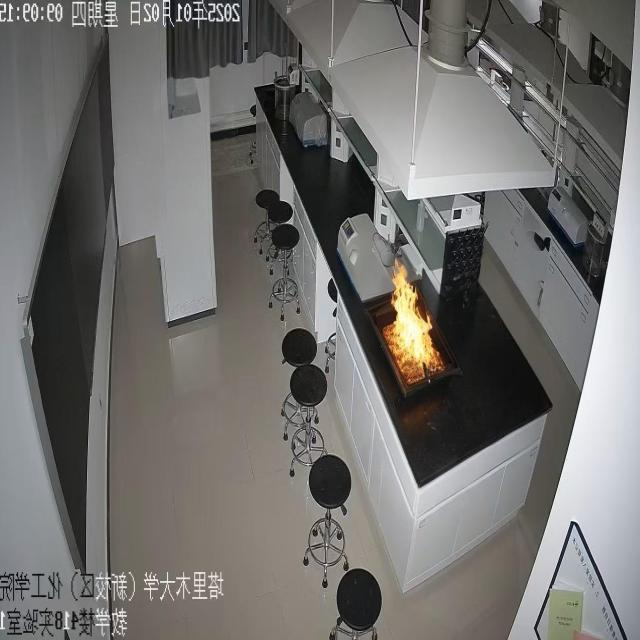smoke: (388, 254, 441, 375)
